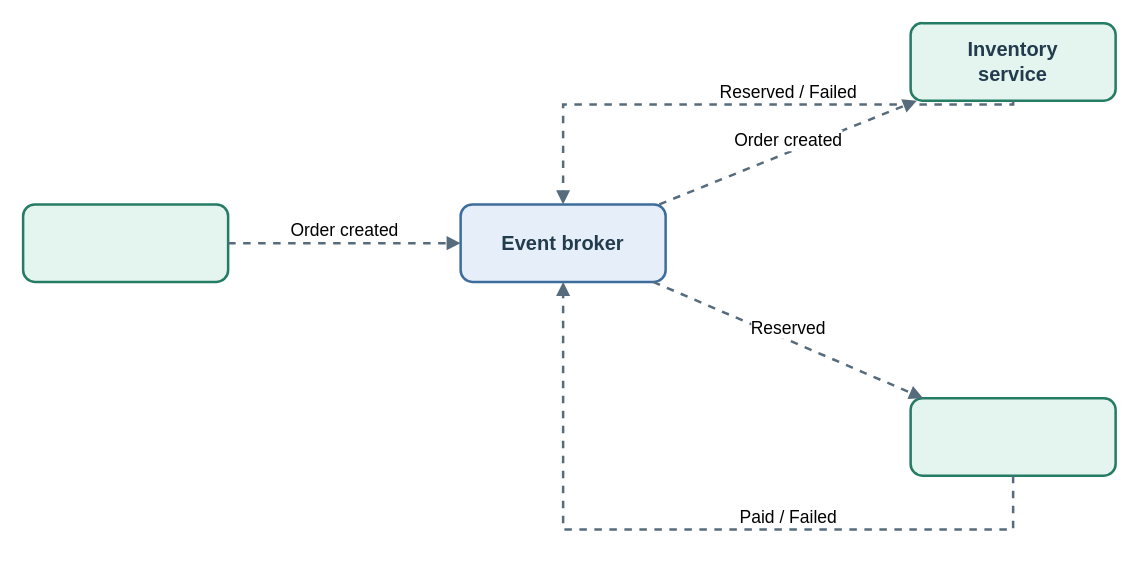
This 1138x561 diagram has some shape labels left out. Here are the shapes that lost their labels. From the top down, the centre of each, then its label:
At [125,242]: "Order service".
At [1012,436]: "Payment service".
